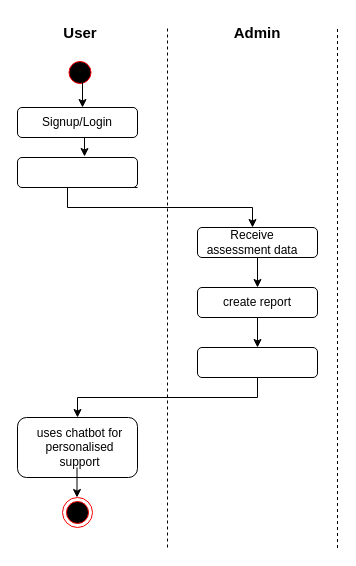
This 356x566 diagram has some shape labels left out. The centre of each missing label's shape, as x and y in pixels:
Complete Quiz: the point at 77,172
provide input to chatbot: the point at 257,362
